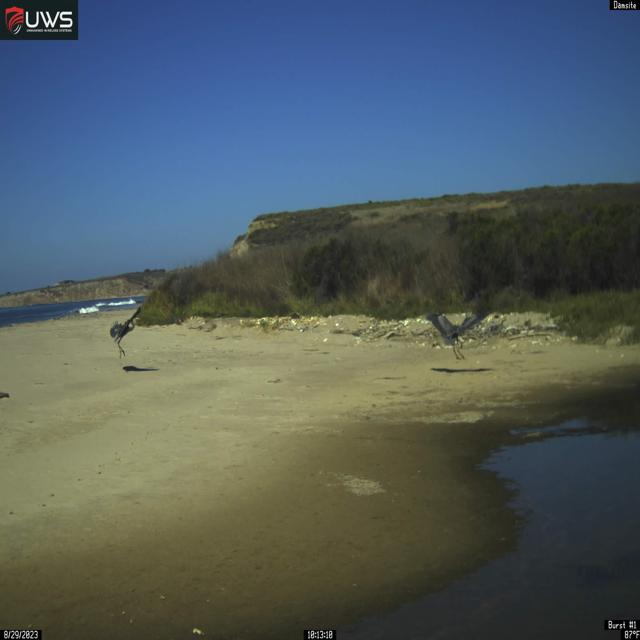bird: (110, 305, 142, 359)
